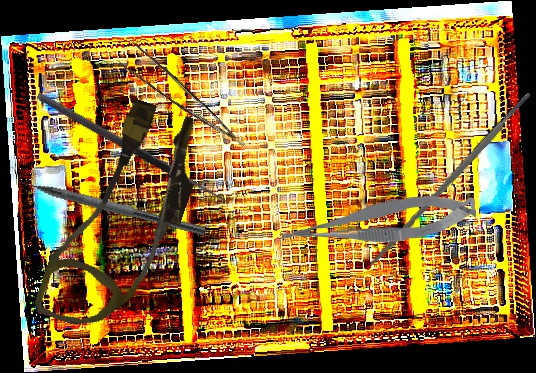Cannula: (31, 89, 215, 347)
Chopper: (4, 163, 211, 237)
Hook Surgical: (34, 82, 240, 209)
Micro Scissor: (277, 191, 478, 250)
Scalpel Handle: (367, 91, 534, 269)
Tissue Forceps: (113, 36, 246, 165)
